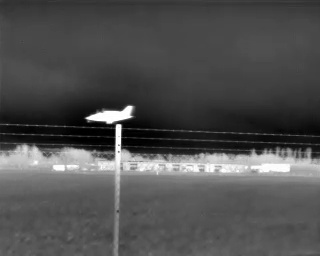AIRPLANE: (83, 104, 137, 128)
